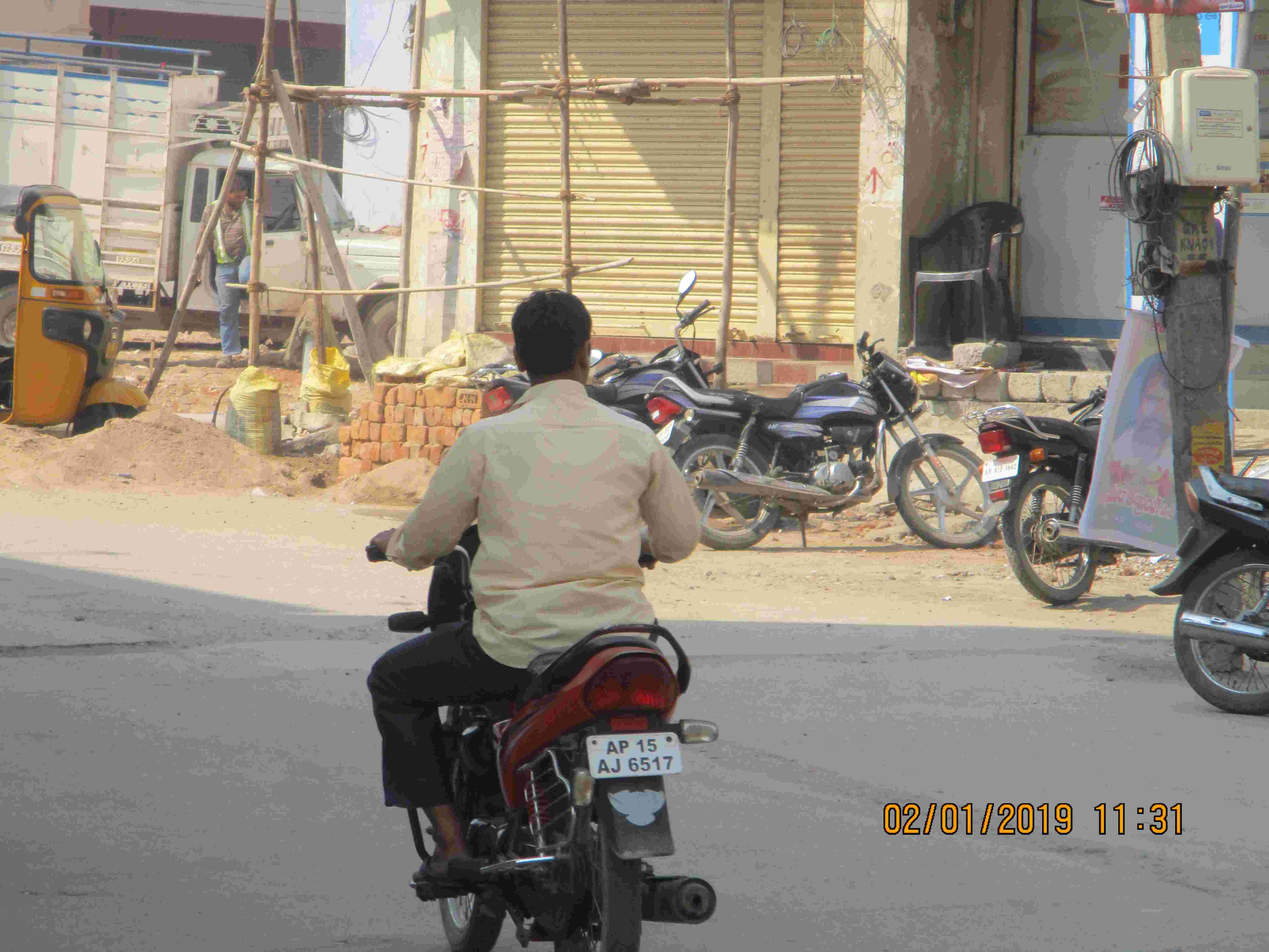plate: (586, 724, 691, 789)
